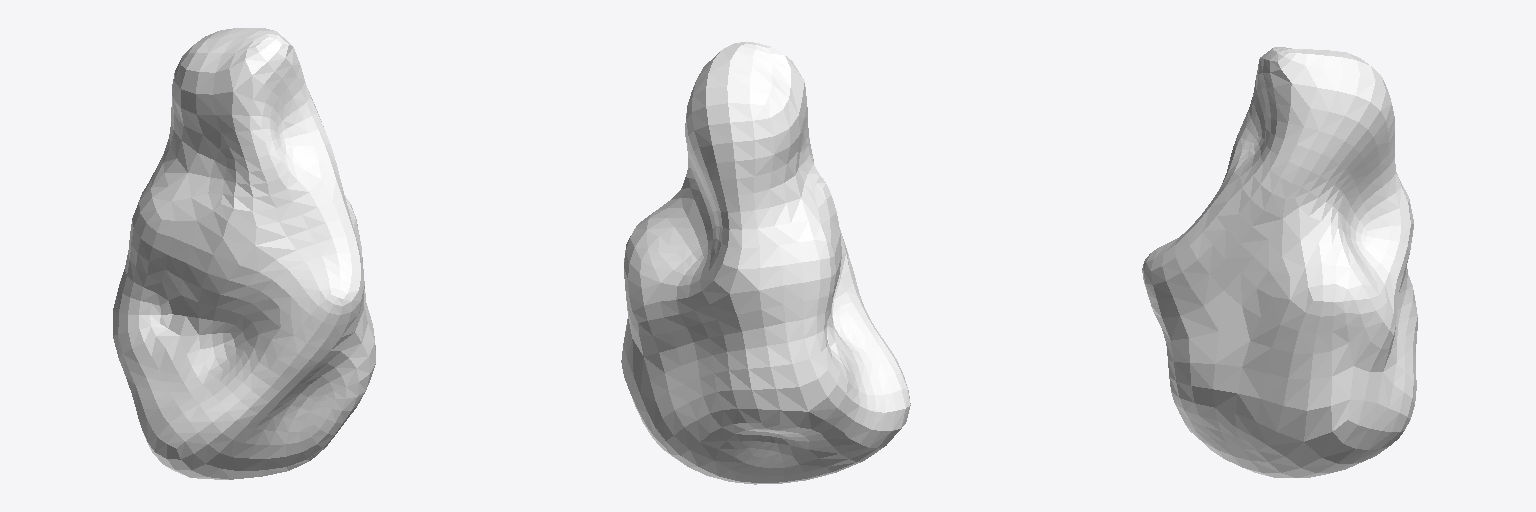
File: Rock02.Obj
3 views of the same model, side by side, from view 1: azimuth 30°, elevation 25°; view 2: azimuth 150°, elevation 25°; view 3: azimuth 270°, elevation 25° (orthographic).
Visible parts, largest first — view 1: Volume5; view 2: Volume5; view 3: Volume5.
Boxes of the visible parts, x1,y1,x2,y2 form: Volume5: [113, 28, 375, 479]; Volume5: [621, 42, 910, 484]; Volume5: [1142, 47, 1417, 477].
Bounding box in the file's own units: 120 × 205 × 121.